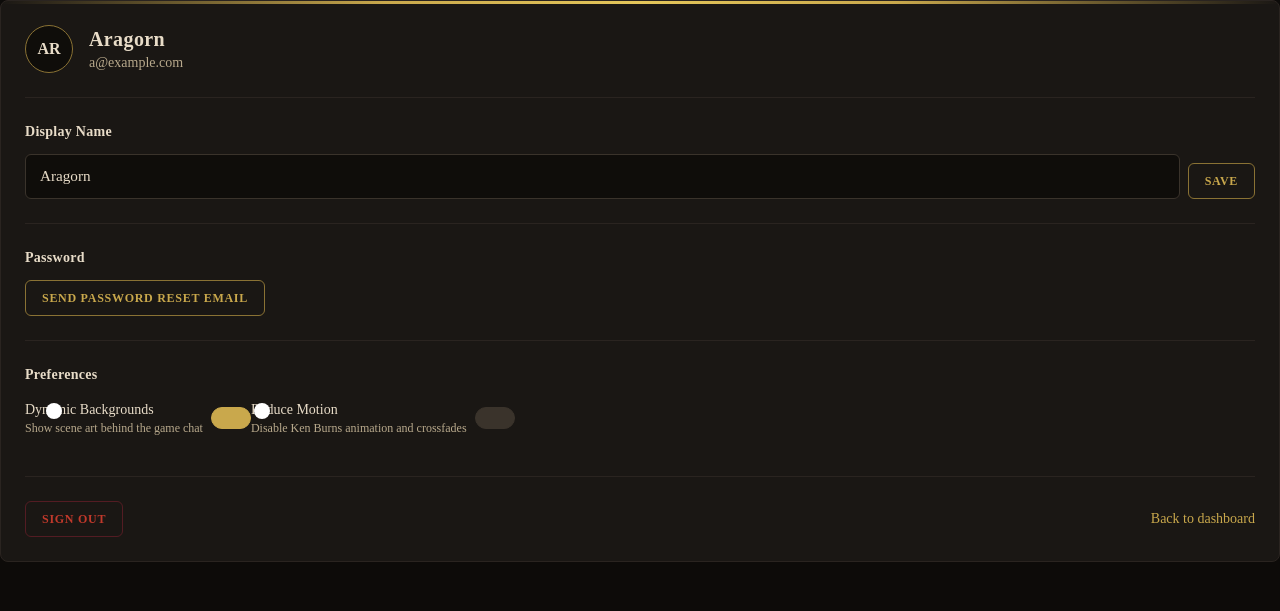
AccountView › display name saving › shows a validation error when the name is empty
Clear the field named "Display name" at (602, 176), box [25,154,1180,199]
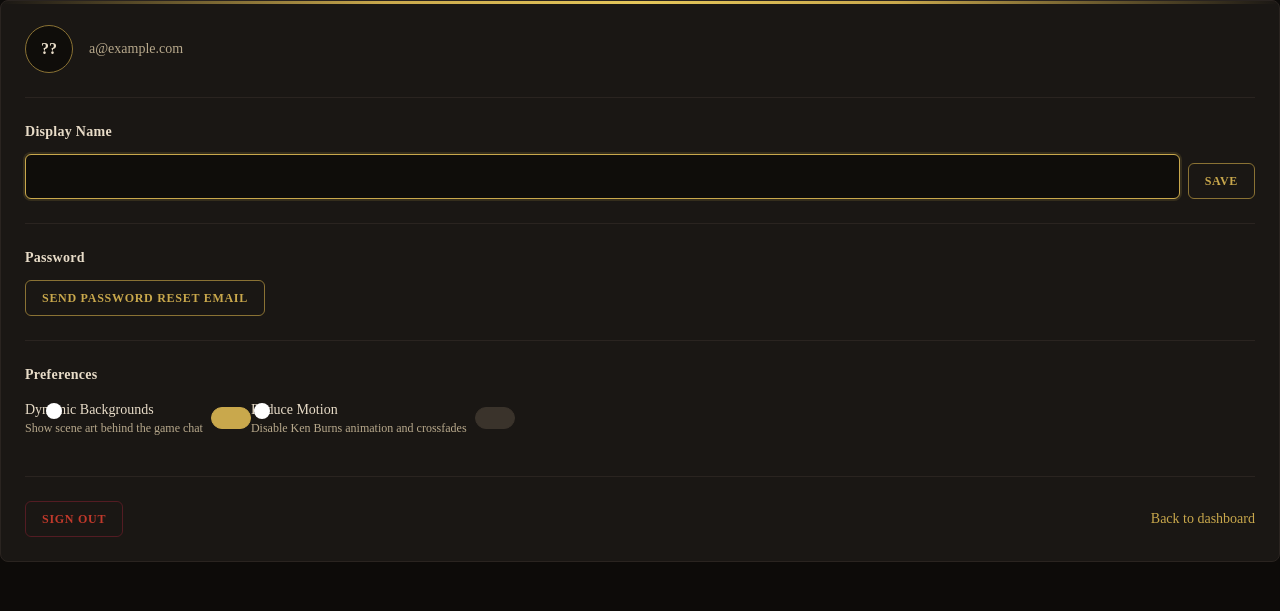
Click the button "Save" at (1221, 181), box [1188,163,1255,199]
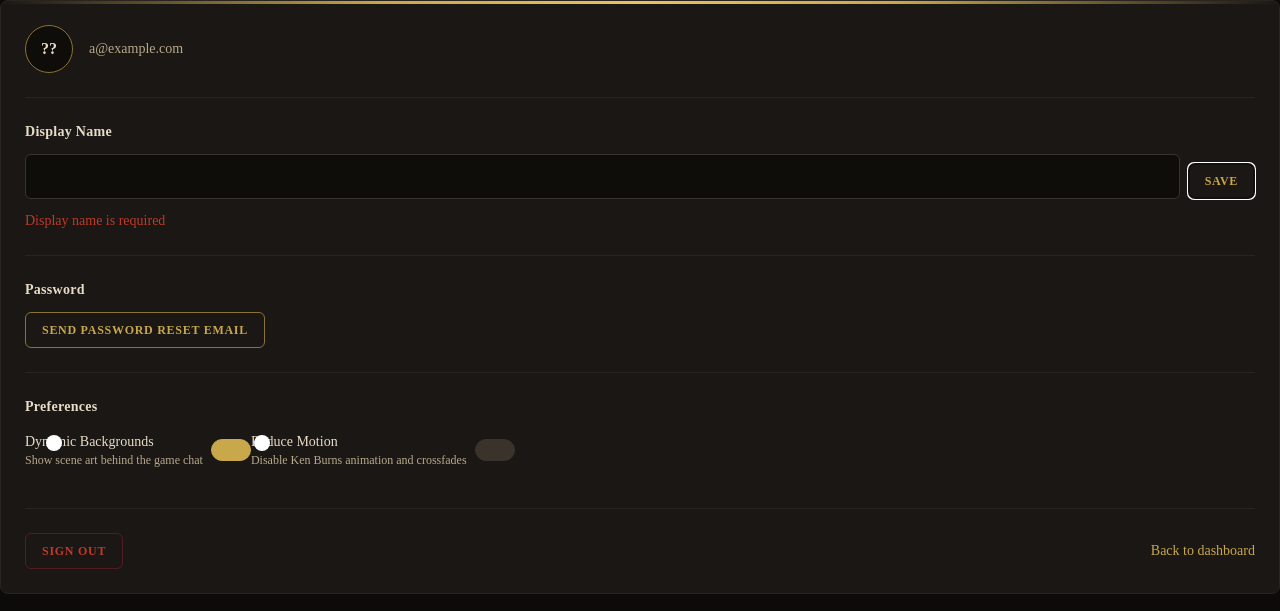
Expected: the text "Display name is required" is shown, [25,213,165,228]
